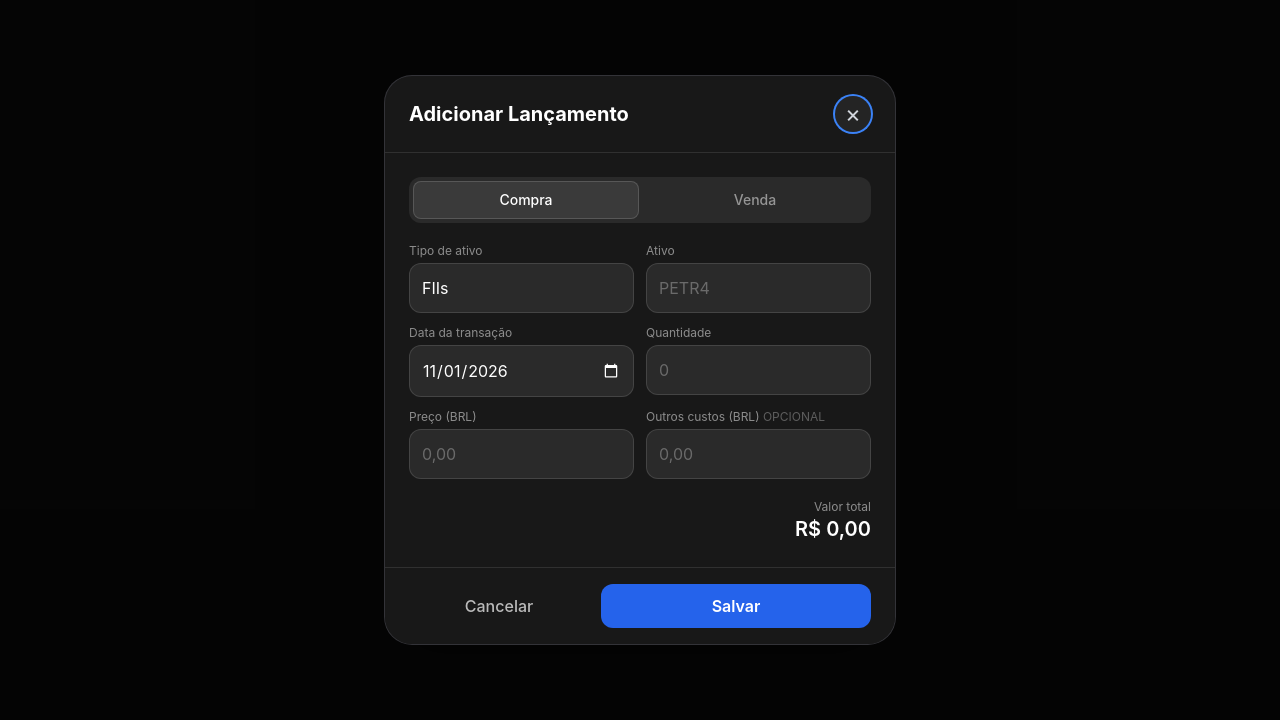
Test: recusa data futura antes de salvar stock_br
Select "Ações BR" in the dropdown labelled "Tipo de ativo" at (522, 288), box [409,263,634,313]
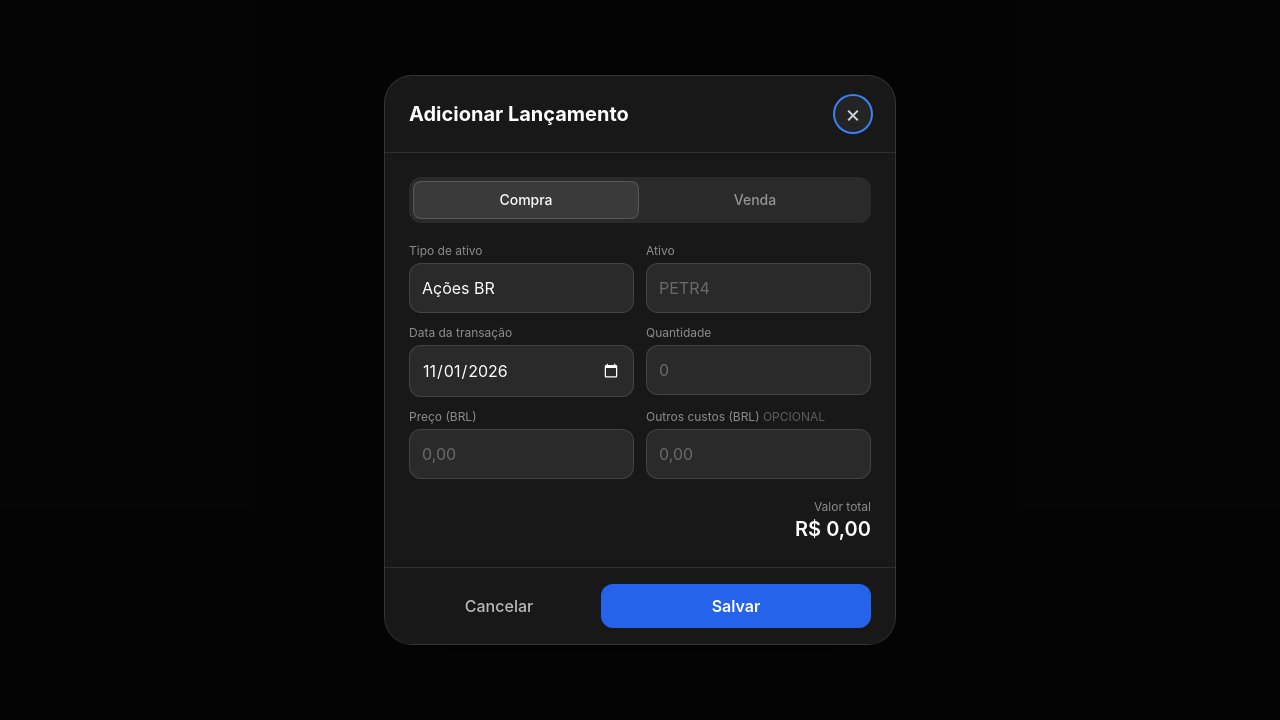
Type "2999-12-31" into the date field labelled "Data da transação".
click(522, 371); type("2999-12-31")  # box [409,345,634,397]
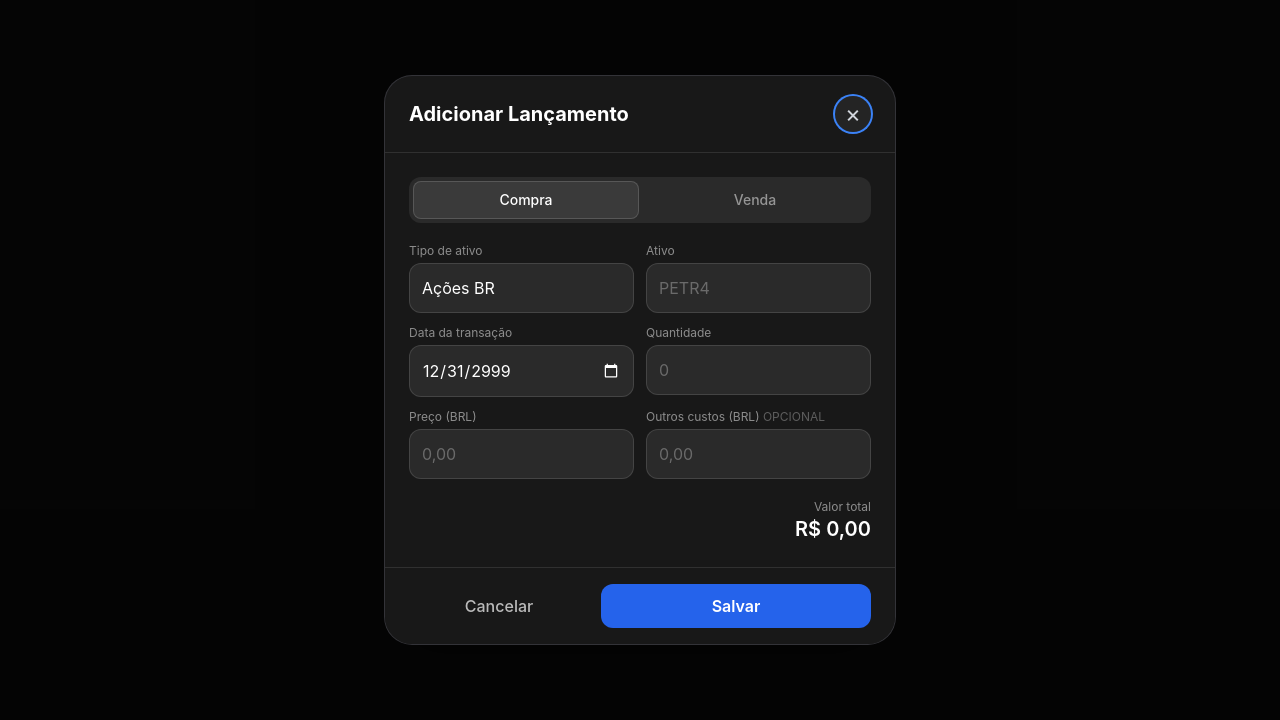
Submit the form, box [409,177,871,543]
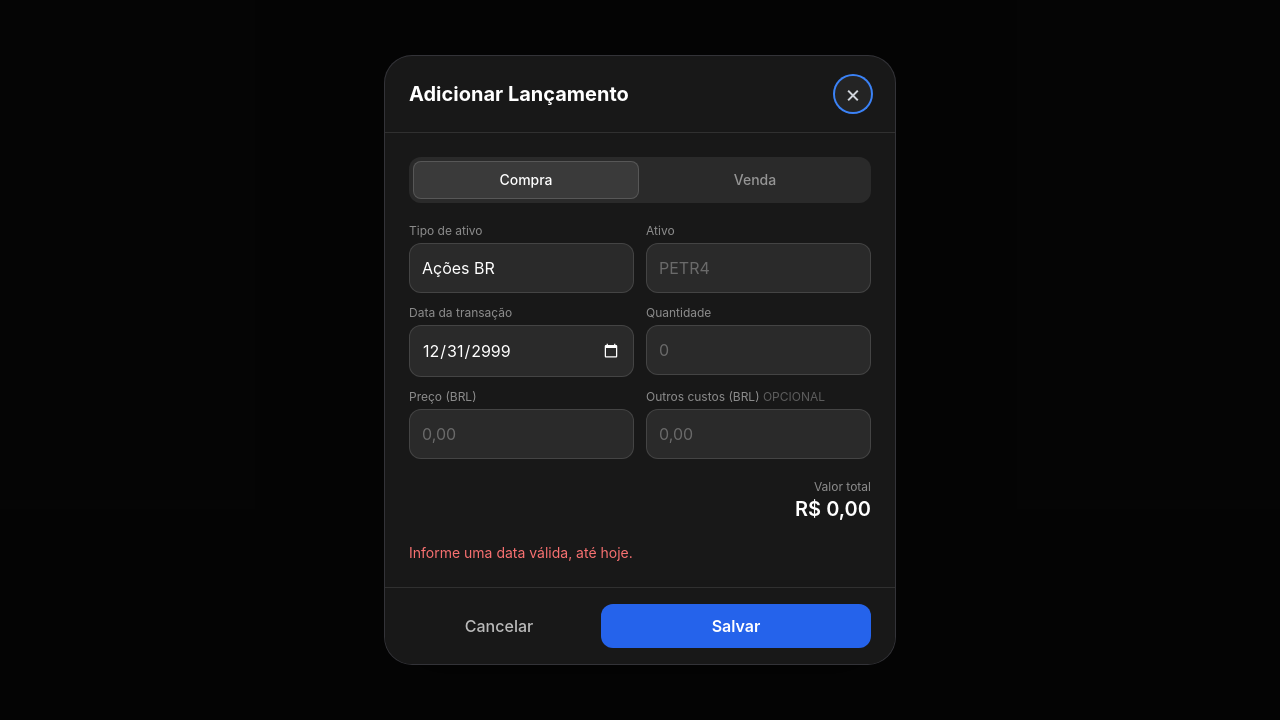
Expected: the text "Informe uma data válida, até hoje." is shown, [409,544,633,561]
